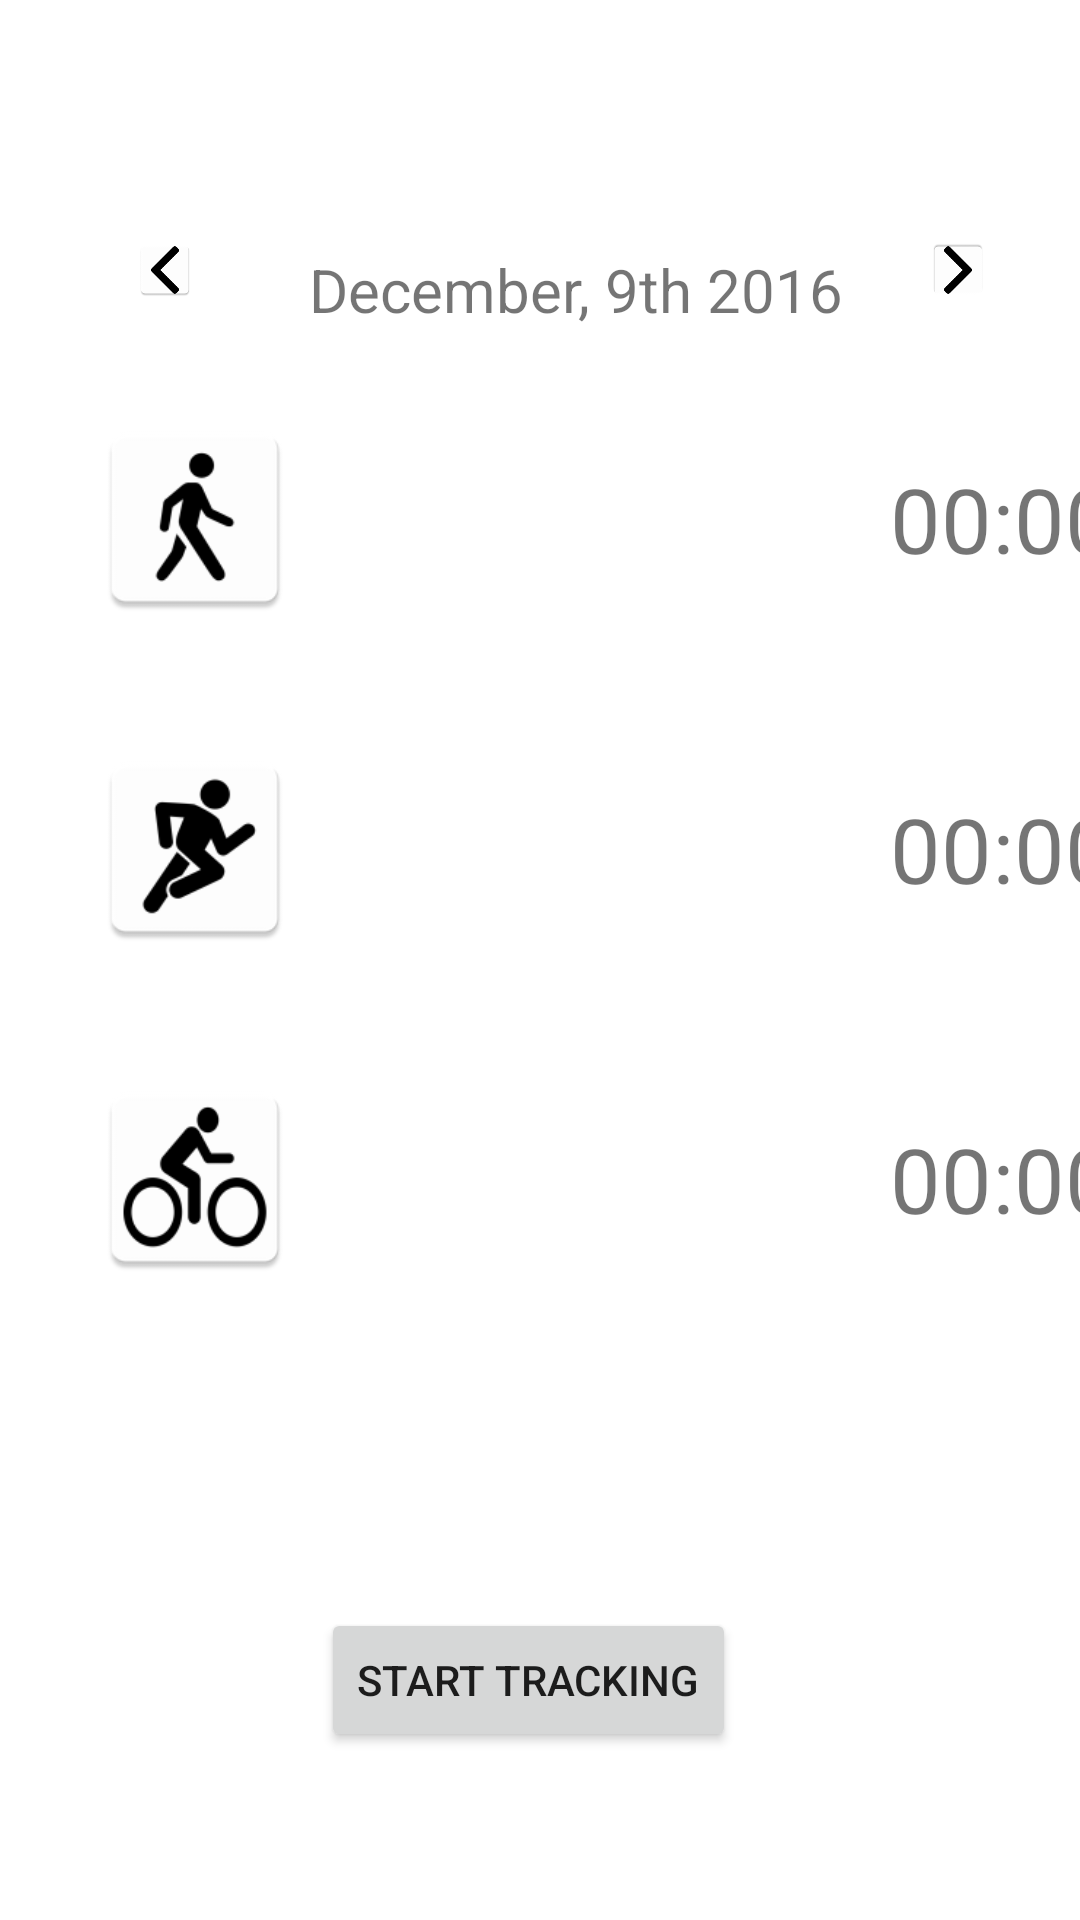

Locate icon controls on the screen. Image size 1080w x 1920h, boxes as box(x1, y1, x2, y2).
biking: box(112, 1105, 279, 1267)
running: box(112, 775, 279, 937)
walking: box(112, 445, 279, 607)
